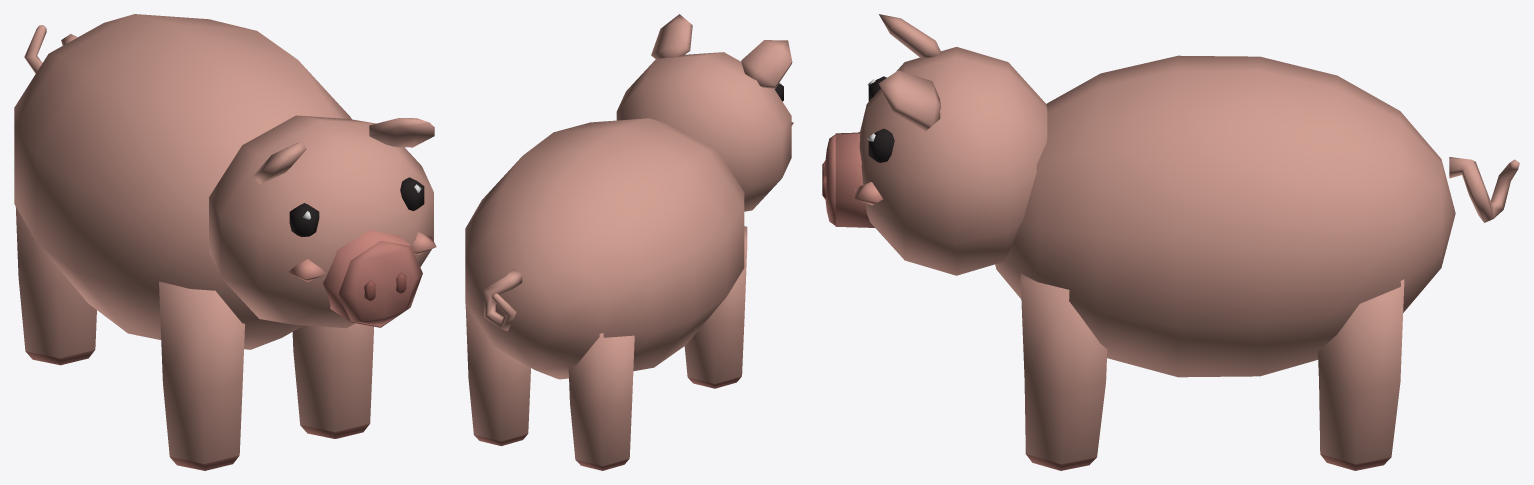
Rendered from pig.glb.
The picture shows the model from 3 angles, left to right: view 1: azimuth 30°, elevation 25°; view 2: azimuth 150°, elevation 25°; view 3: azimuth 270°, elevation 25°; orthographic projection. The views are drawn at different scales.
Visible parts, largest first — view 1: body, head, leg_fr, leg_fl, leg_br, head_body_nh, tail; view 2: body, head, leg_br, leg_bl, leg_fr, tail; view 3: body, head, leg_fl, leg_bl, tail, head_body_nh.
Boxes of the visible parts, x1,y1,x2,y2 form: body: [14, 14, 351, 349]; head: [209, 115, 434, 328]; leg_fr: [159, 281, 244, 470]; leg_fl: [292, 323, 373, 438]; leg_br: [15, 207, 96, 365]; head_body_nh: [288, 177, 436, 302]; tail: [24, 25, 77, 73]; body: [465, 118, 744, 379]; head: [616, 14, 792, 211]; leg_br: [568, 333, 634, 470]; leg_bl: [465, 300, 530, 446]; leg_fr: [684, 226, 747, 388]; tail: [483, 269, 522, 331]; body: [995, 55, 1455, 377]; head: [823, 14, 1047, 275]; leg_fl: [1020, 274, 1107, 470]; leg_bl: [1318, 279, 1404, 470]; tail: [1449, 157, 1519, 222]; head_body_nh: [822, 76, 894, 205].
Size of the model in its own units: 0.5061 by 0.6635 by 1.09.
